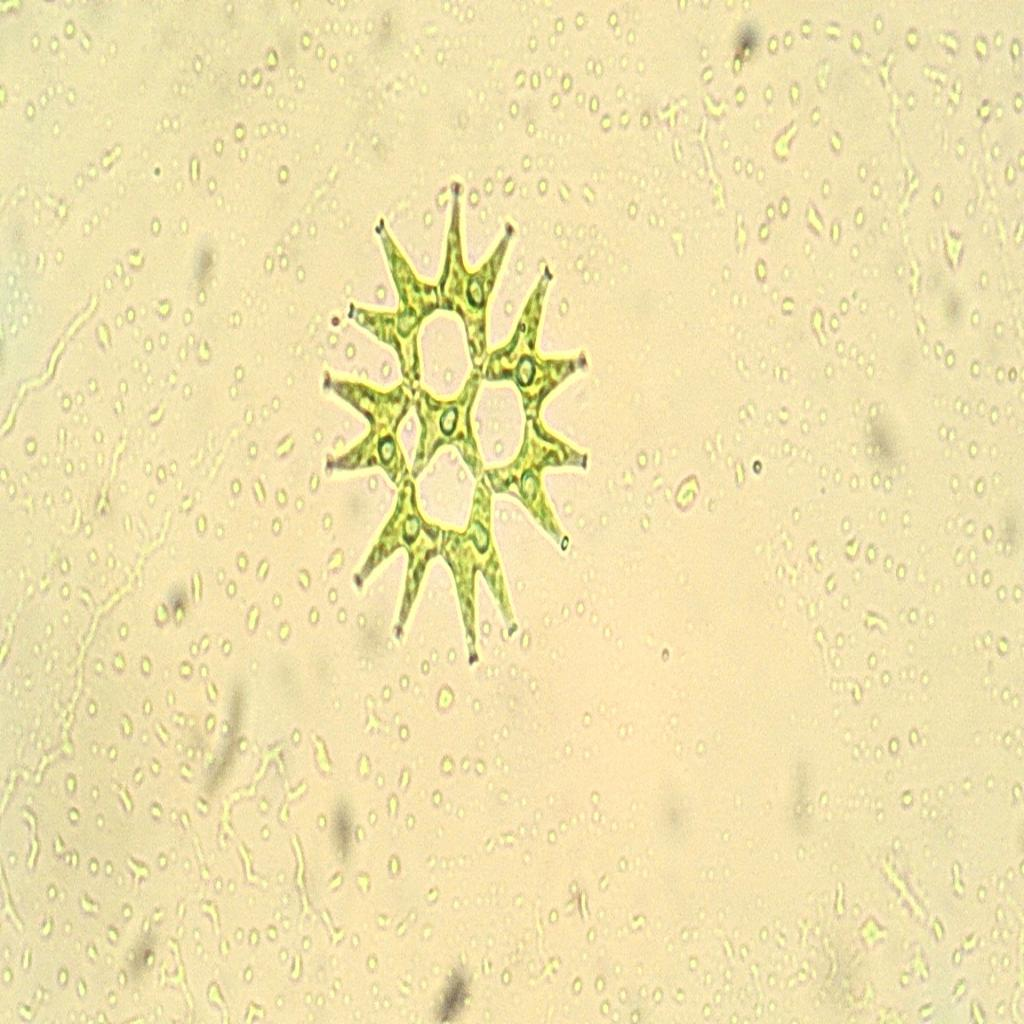Pediastrum_75T: (317, 172, 613, 690)
